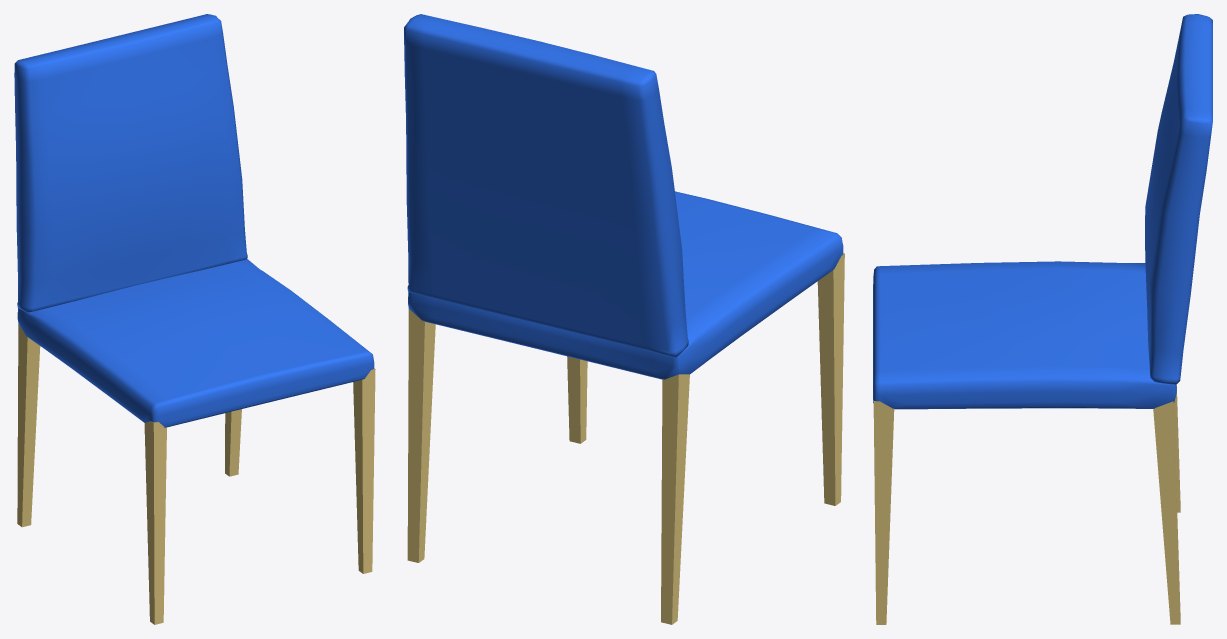
File: Henriksdal_Chair-3D.DAE
3 renders of one model, left to right at view 1: azimuth 30°, elevation 25°; view 2: azimuth 150°, elevation 25°; view 3: azimuth 270°, elevation 25°, orthographic. The views are drawn at different scales.
Visible parts, largest first — view 1: Box02; view 2: Box02; view 3: Box02.
Part boxes in pixels (bbox=[...]): Box02: bbox=[14, 14, 375, 624]; Box02: bbox=[404, 14, 844, 624]; Box02: bbox=[873, 14, 1212, 624].
Size of the model in its own units: 496 by 963 by 592.
